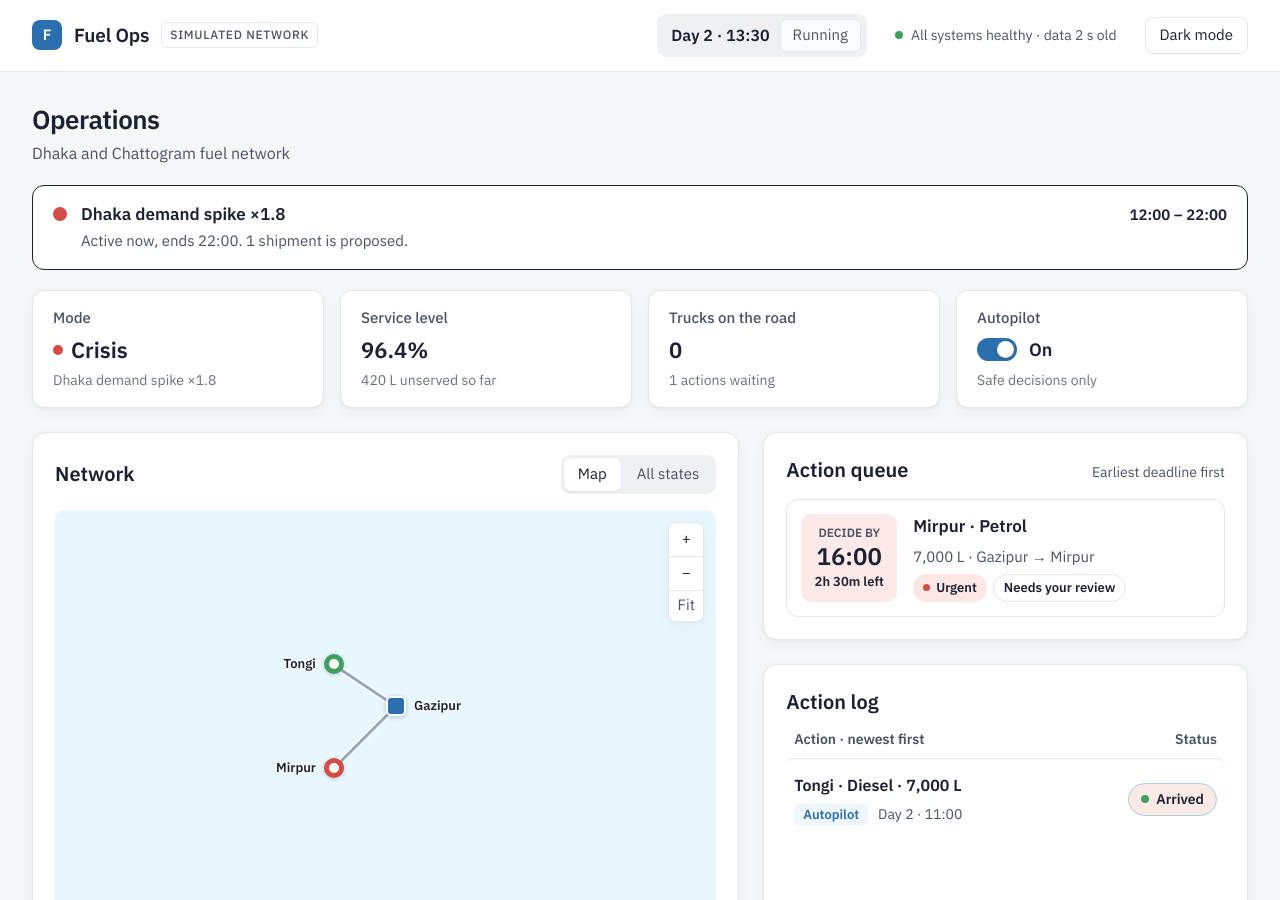
Test: ConsolePage · live backend › asks the explain API about a queued action and a logged action
The image size is (1280, 900).
Click the button that starts with "DECIDE BY". click: click(1006, 558)
box: left=786, top=499, right=1225, bottom=616
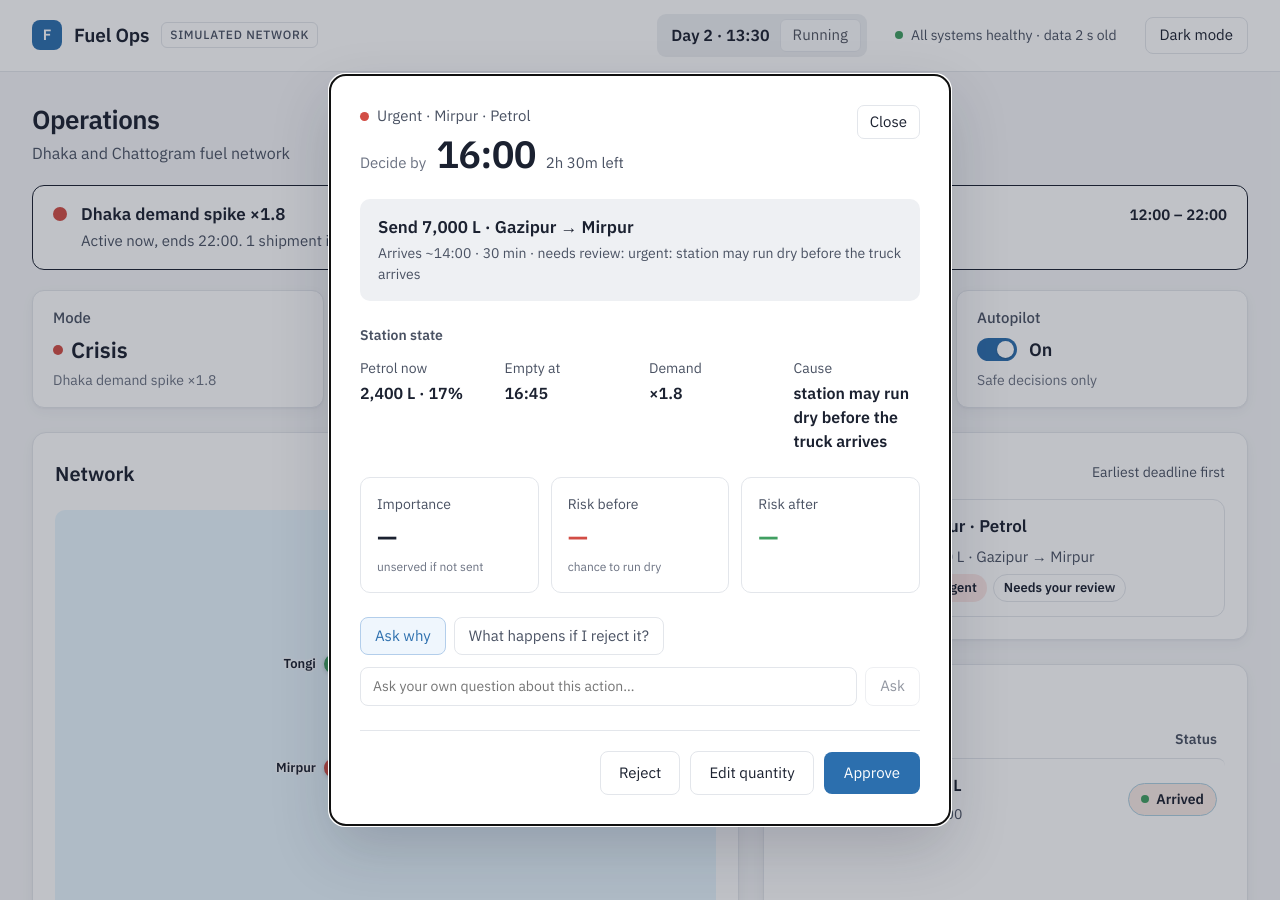
Click the button "What happens if I reject it?". click: click(559, 636)
box: left=454, top=617, right=664, bottom=655
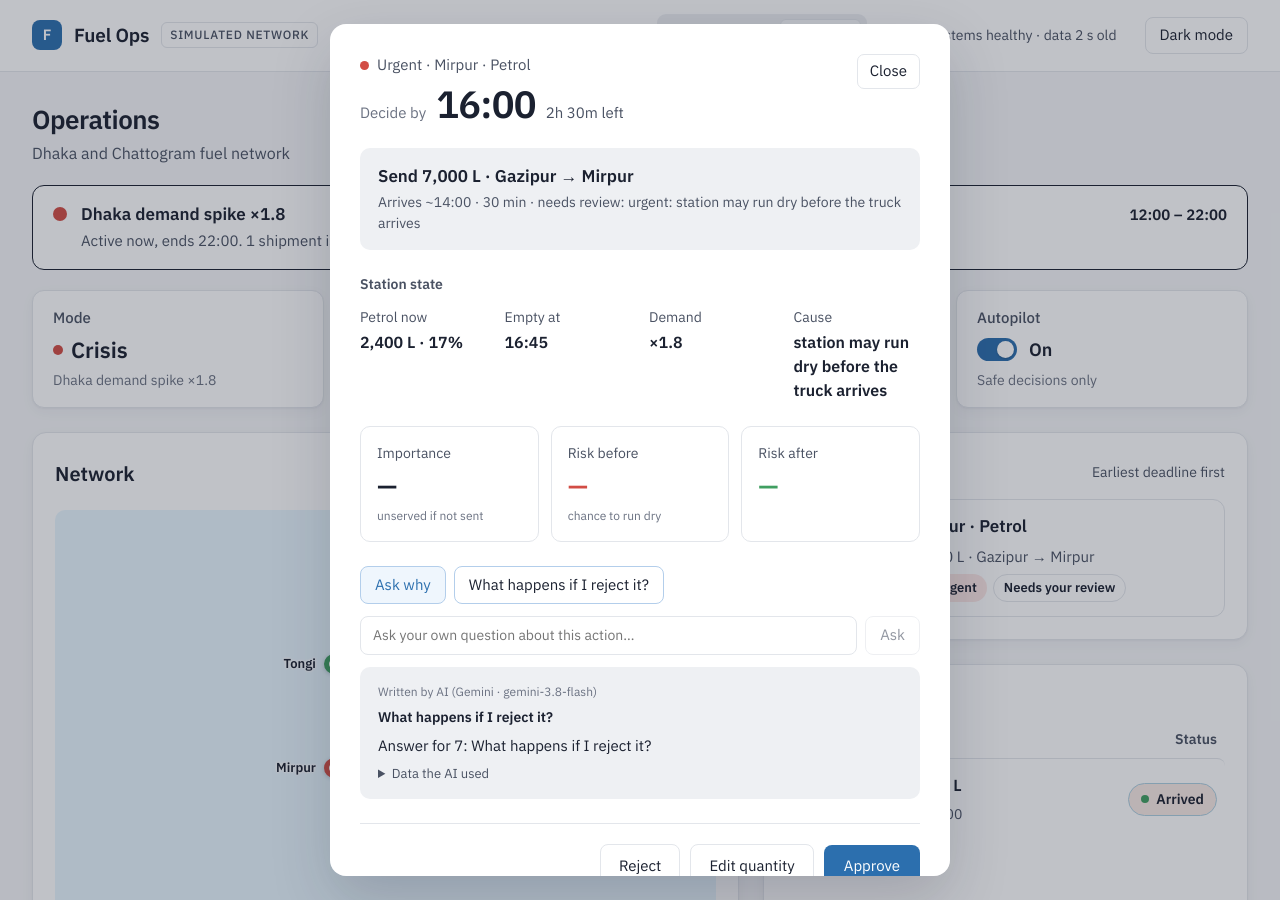
Expected: the text "Answer for 7: What happens if I reject it?" is shown, left=378, top=736, right=651, bottom=755
Expected: the text "Written by AI (Gemini · gemini-3.8-flash)" is shown, left=378, top=684, right=597, bottom=699
Expected: the heading "Data the AI used" is shown, left=392, top=765, right=489, bottom=782
Click the button "Close". click: click(888, 71)
box: left=857, top=54, right=920, bottom=88
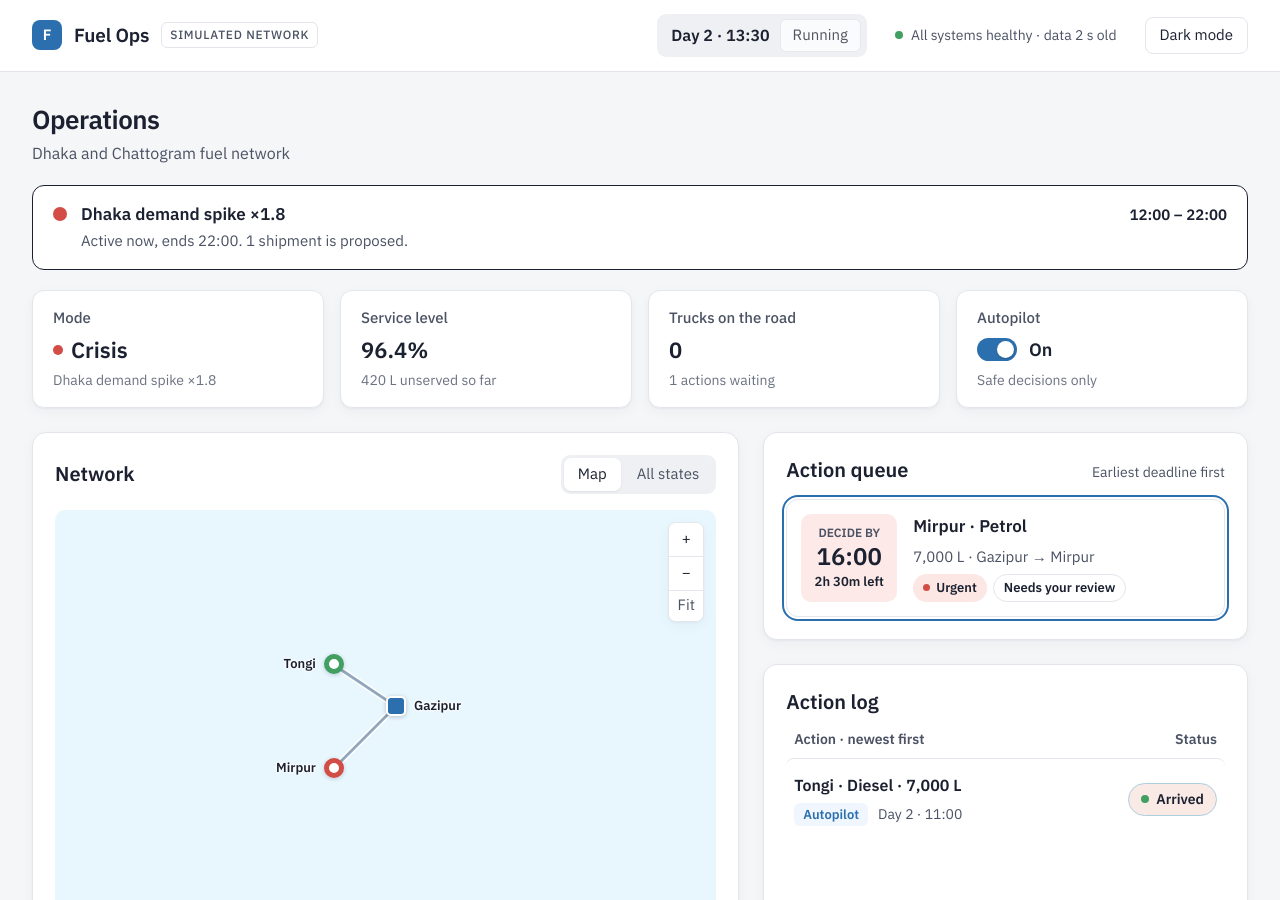
Click the button "Tongi · Diesel · 7,000 L Autopilot Day 2 · 11:00 Arrived". click: click(878, 784)
box: left=786, top=758, right=1225, bottom=840
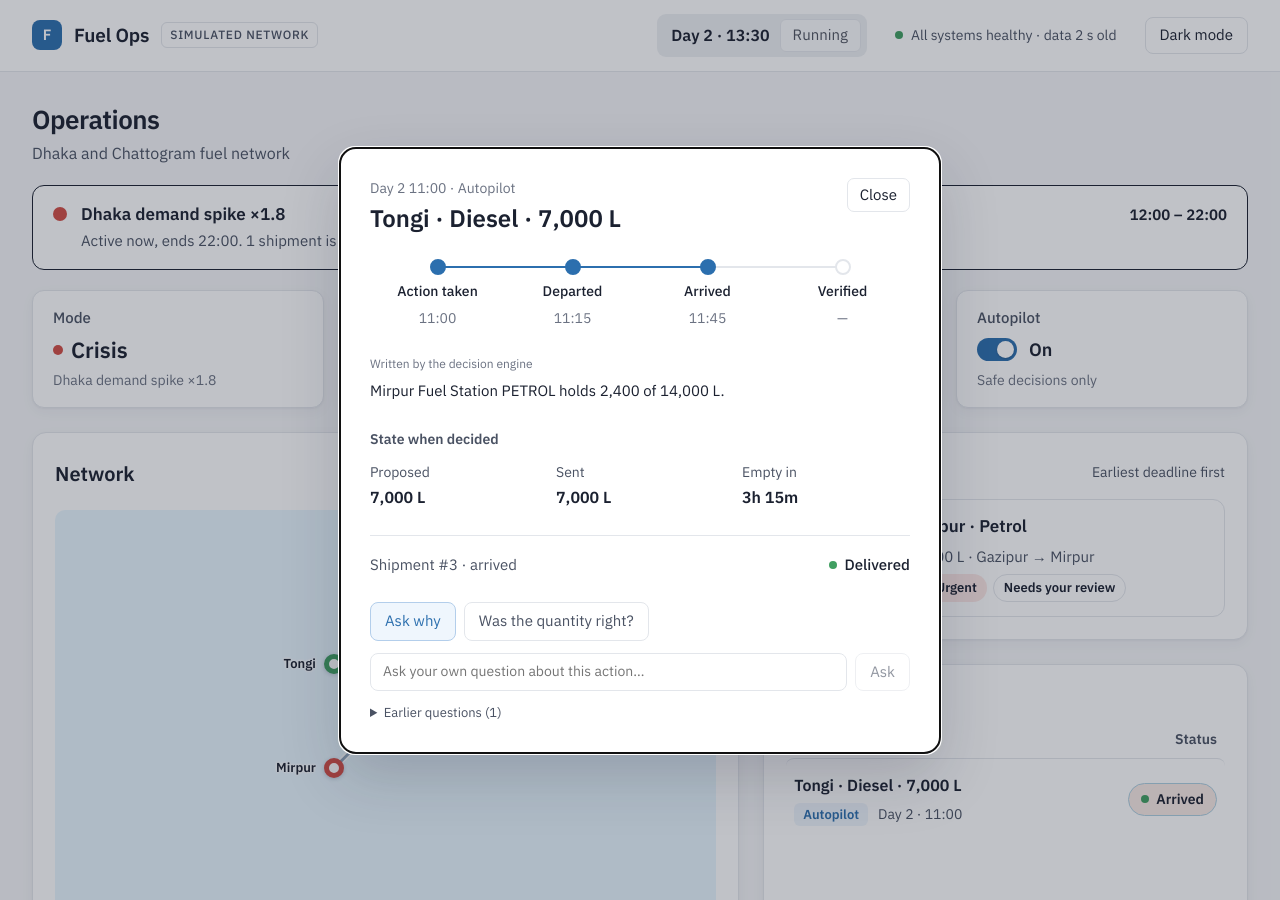
Expected: the heading "Earlier questions (1)" is shown, left=384, top=704, right=502, bottom=721
Click the button "Ask why". click: click(413, 621)
box: left=370, top=602, right=456, bottom=640
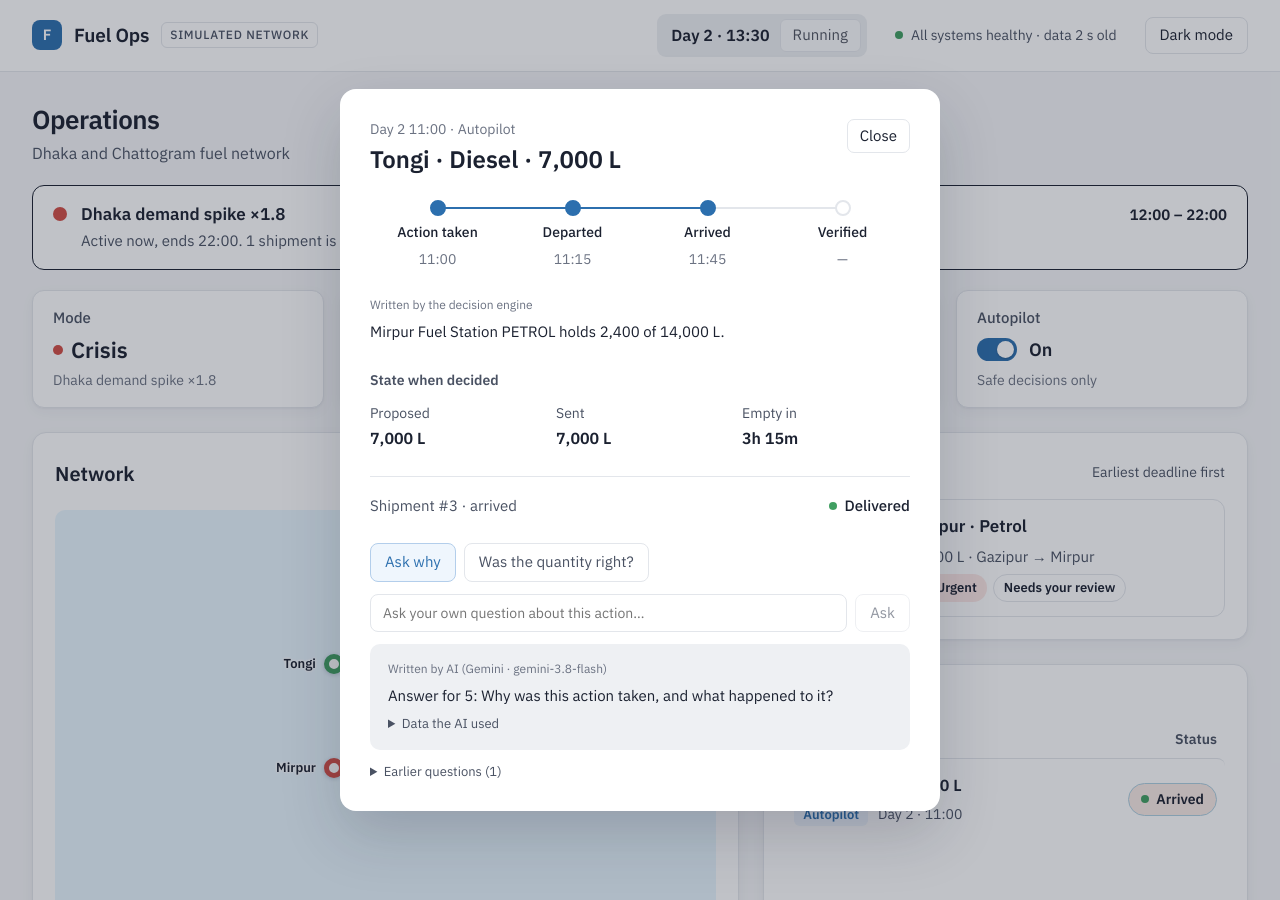
Expected: the text "Answer for 5: Why was this action taken" is shown, left=388, top=686, right=833, bottom=705
Type "Did it arrive on time?" into the field labelled "Ask your own question". click: (609, 613)
box: left=370, top=594, right=847, bottom=632
Click the button "Ask". click: click(883, 613)
box: left=855, top=594, right=910, bottom=632
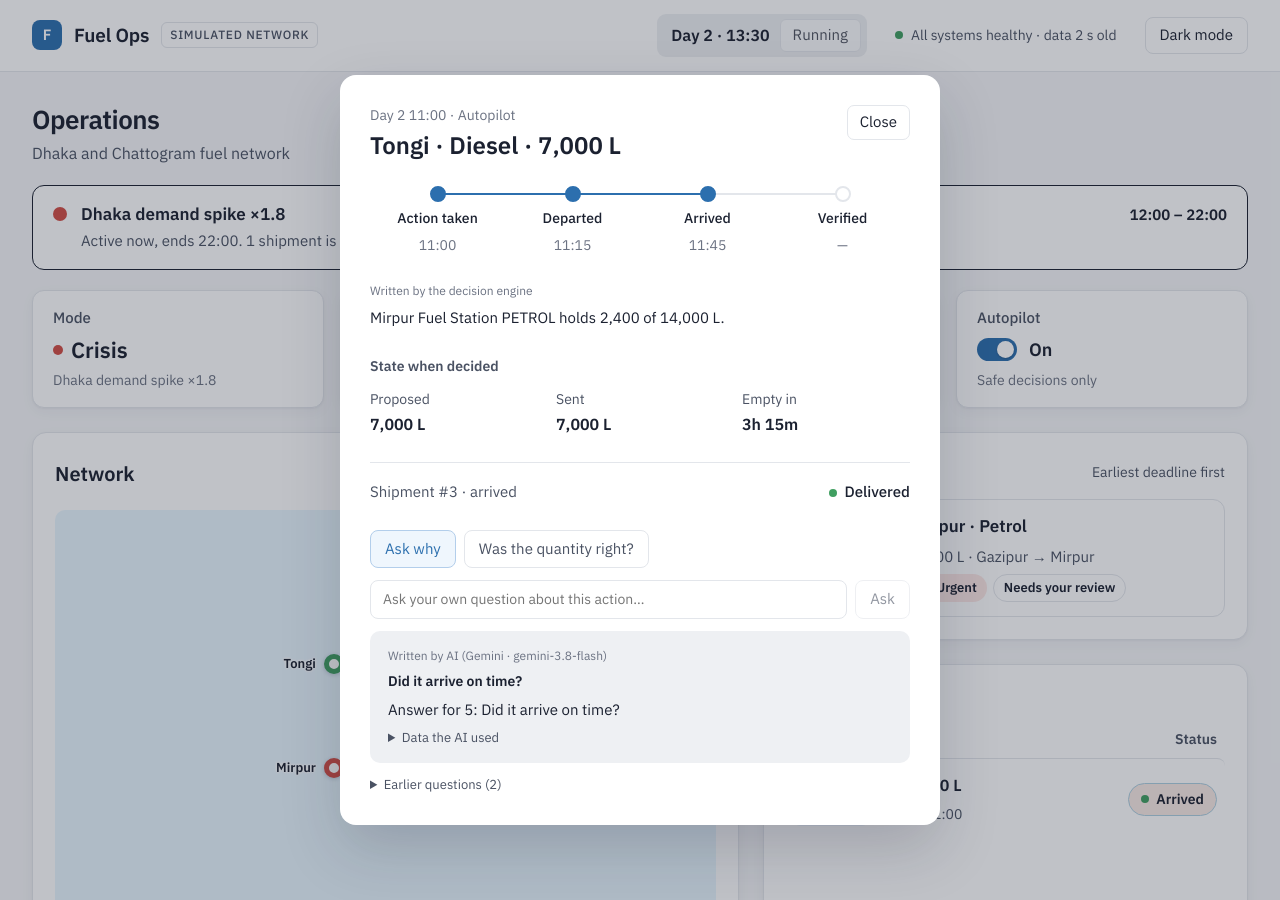
Expected: the text "Answer for 5: Did it arrive on time?" is shown, left=388, top=700, right=620, bottom=719
